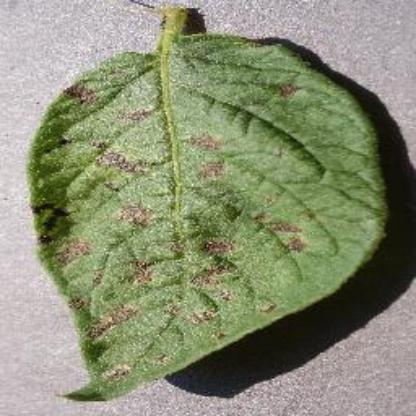Early-Blight: (28, 9, 392, 401)
